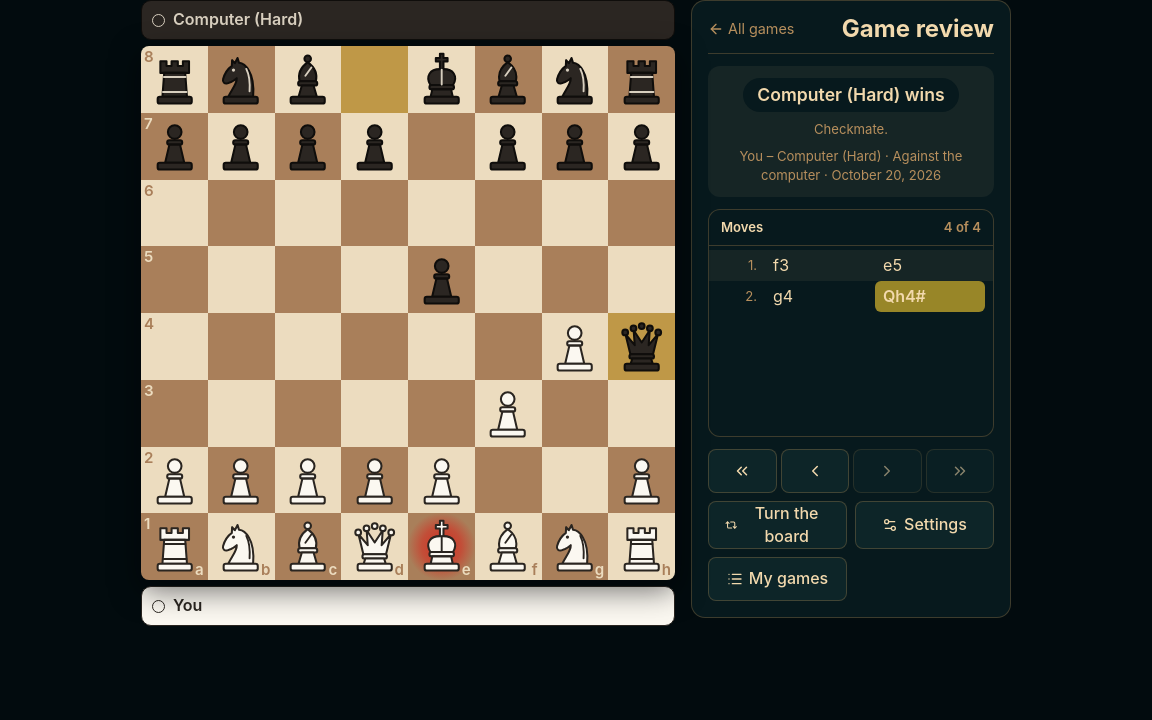
it: game review › opens at the end and steps back and forth by button, move list and keys
Expected: the text "Computer (Hard) wins" is shown, [743,78,959,112]
Expected: the text "Checkmate." is shown, [814,120,888,138]
Click the button named "Back": (815, 471) [780,449,849,493]
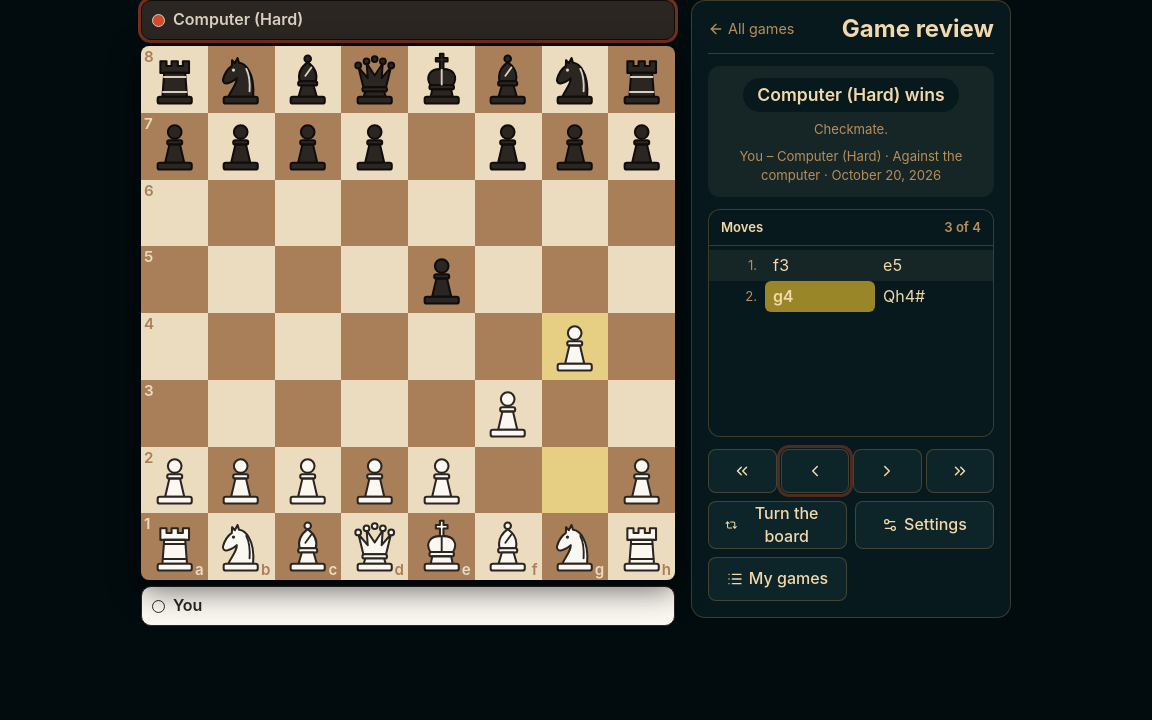
Expected: the text "3 of 4" is shown, [944,218,981,237]
Click the button named "Start": (742, 471) [708,449,776,493]
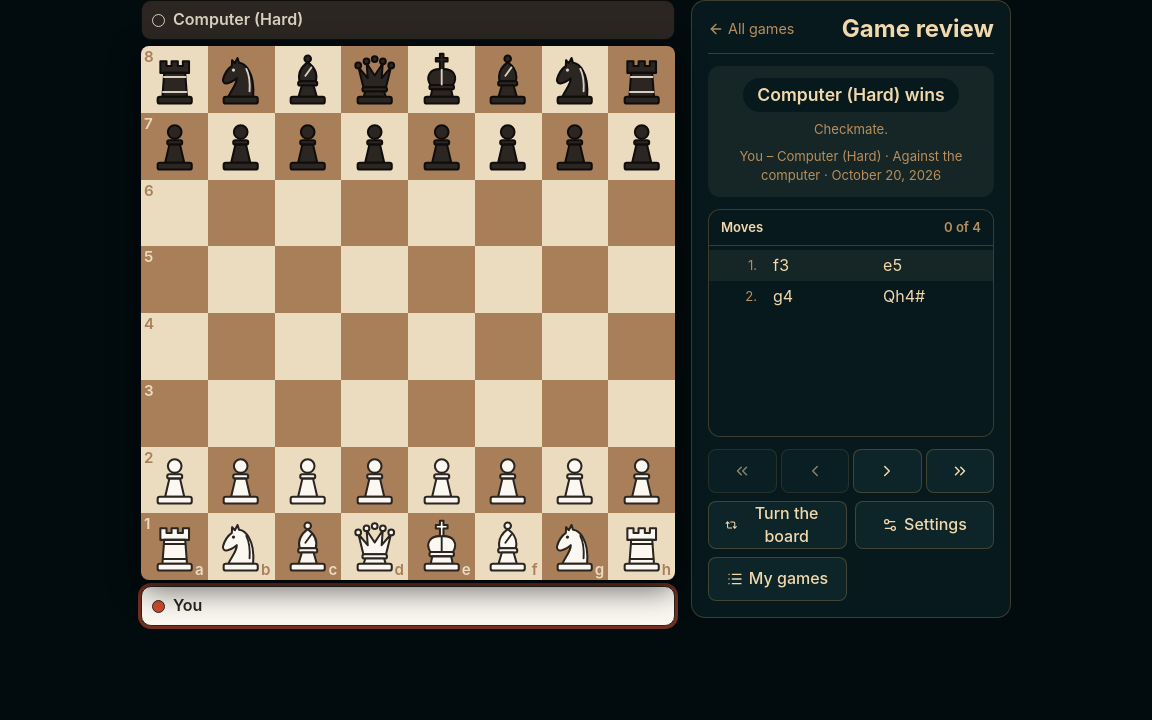
Expected: the button named "Back" is disabled, [780,449,849,493]
Expected: the text "0 of 4" is shown, [944,218,981,237]
Click the button "g4": (820, 296) [765,281,875,312]
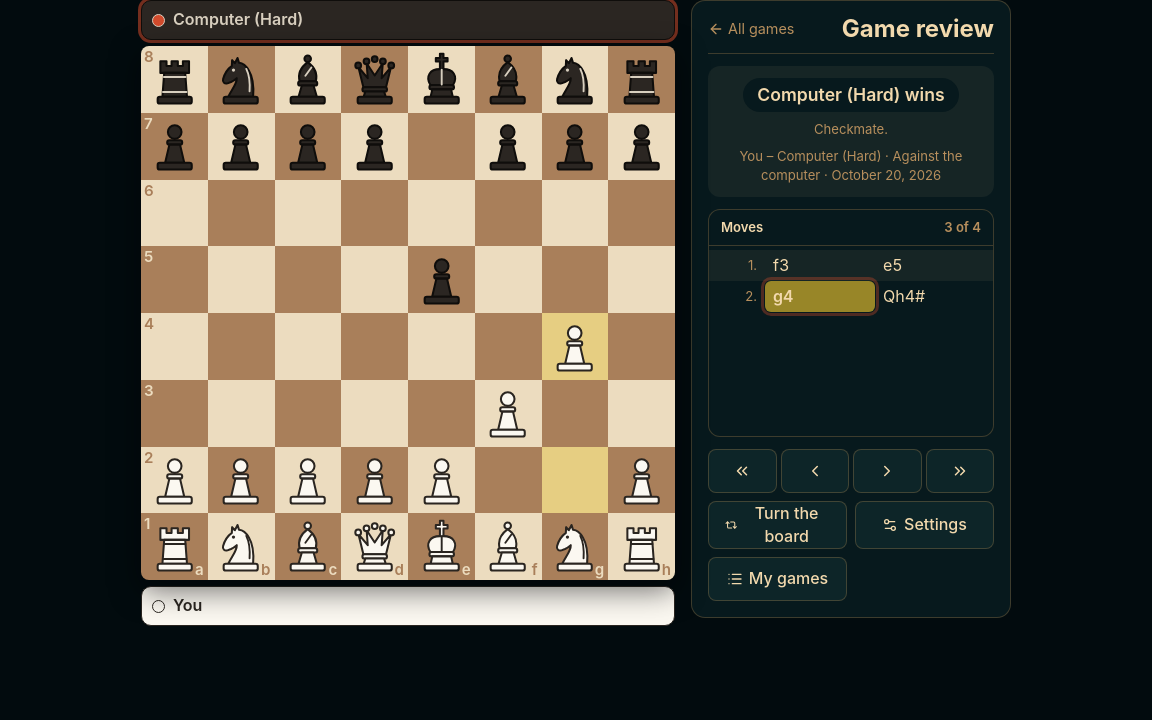
Expected: the text "3 of 4" is shown, [944,218,981,237]
Press Arrowright
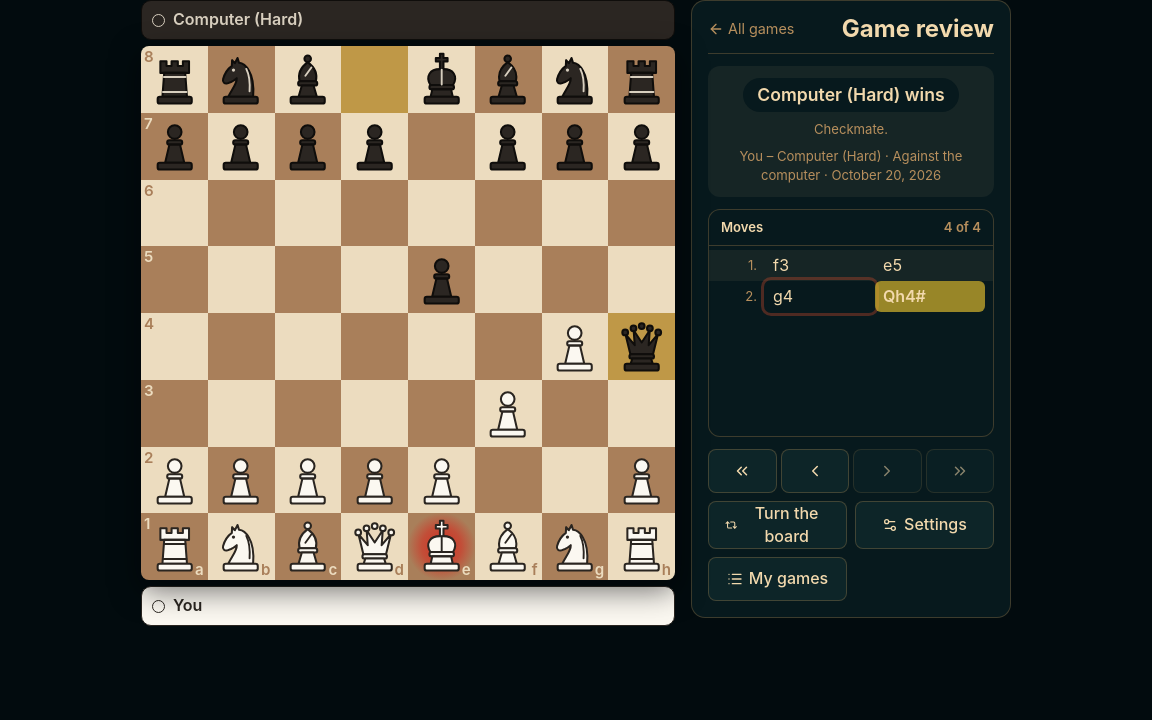
Expected: the text "4 of 4" is shown, [944,218,981,237]
Press Home
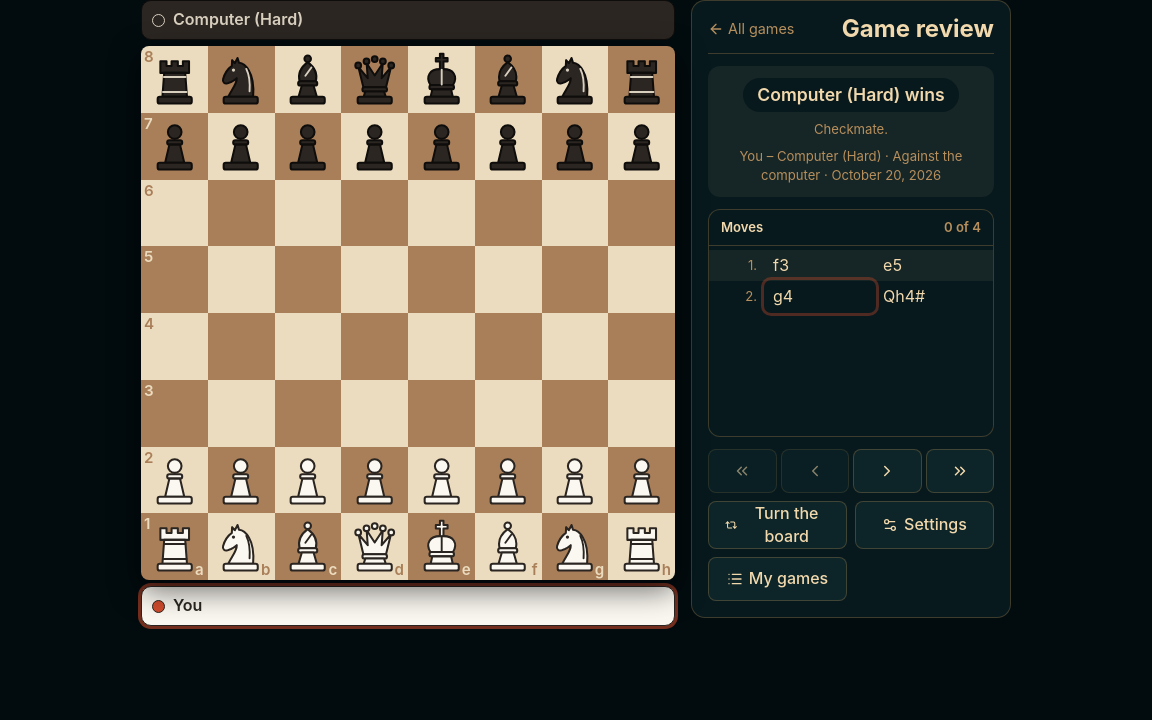
Expected: the text "0 of 4" is shown, [944,218,981,237]
Press End
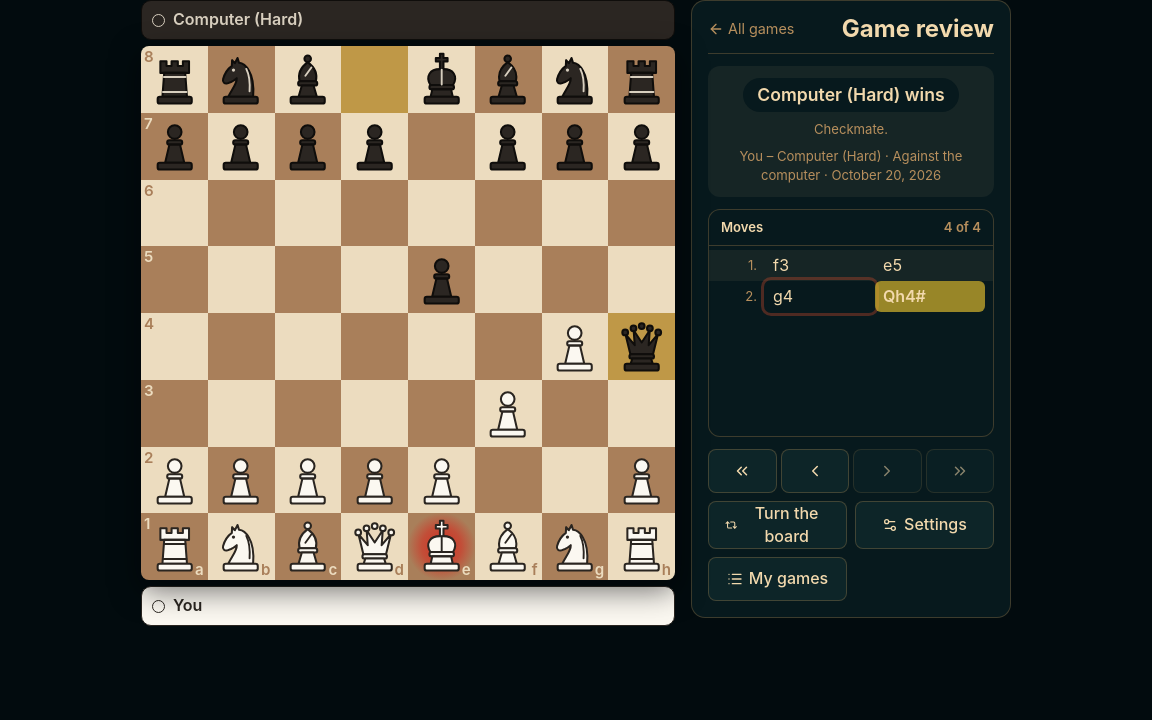
Expected: the text "4 of 4" is shown, [944,218,981,237]
